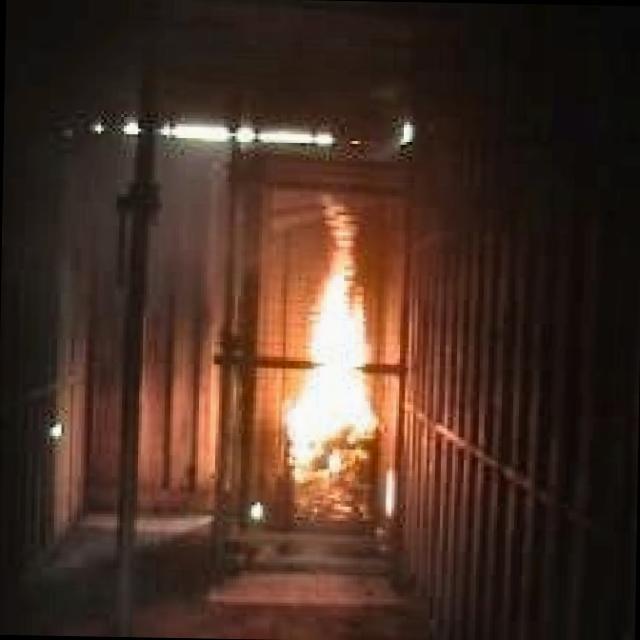fire: (263, 176, 388, 455)
